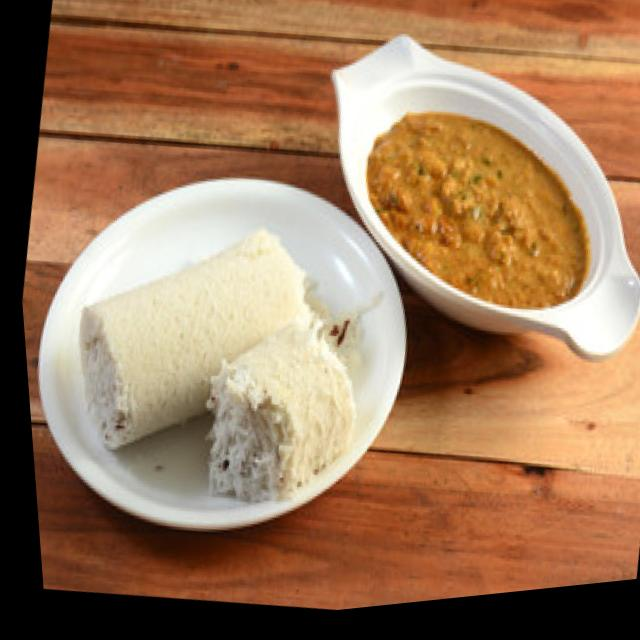CURRY: (365, 108, 589, 307)
PUTTU: (75, 222, 355, 502)
